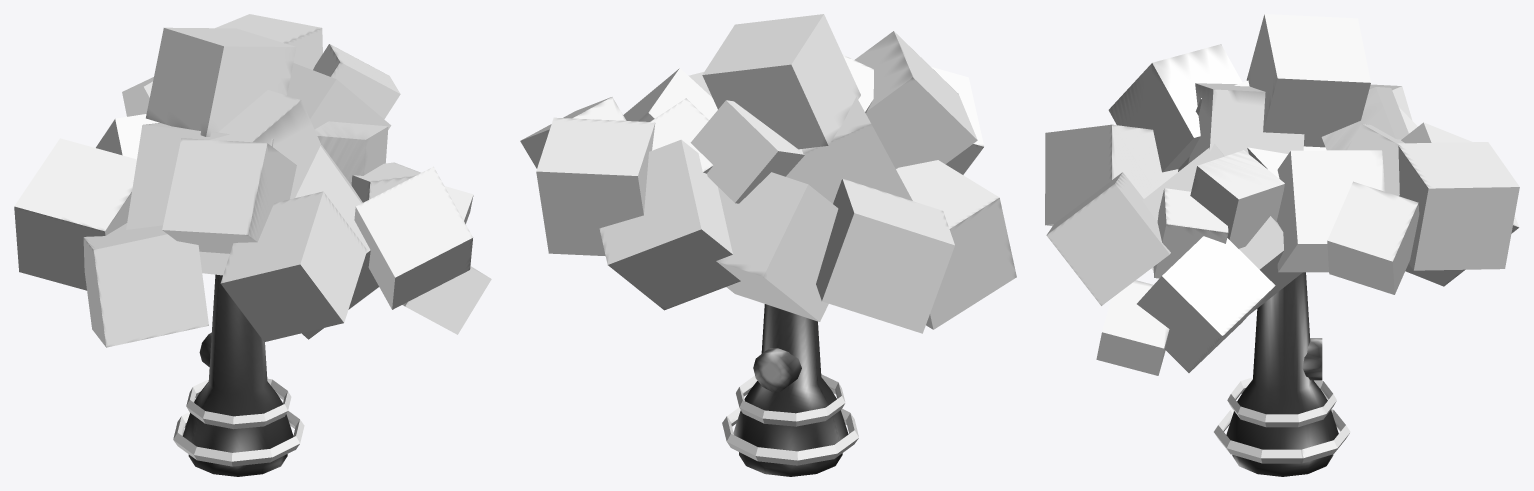
Rendered from LIGHT_TREE3.FBX.
The picture shows the model from 3 angles, left to right: view 1: azimuth 30°, elevation 25°; view 2: azimuth 150°, elevation 25°; view 3: azimuth 270°, elevation 25°; orthographic projection. The views are drawn at different scales.
Visible parts, largest first — view 1: LIGHT_TREE3; view 2: LIGHT_TREE3; view 3: LIGHT_TREE3.
Boxes of the visible parts, <box> form: LIGHT_TREE3: <box>14,14,491,476</box>; LIGHT_TREE3: <box>520,14,1016,476</box>; LIGHT_TREE3: <box>1045,14,1519,476</box>.
Size of the model in its own units: 252 by 256 by 256.
